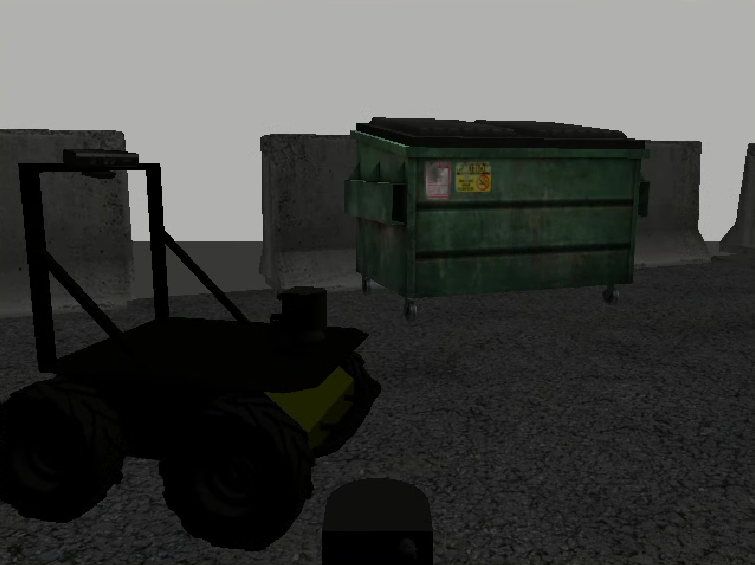husky: (1, 316, 382, 551)
